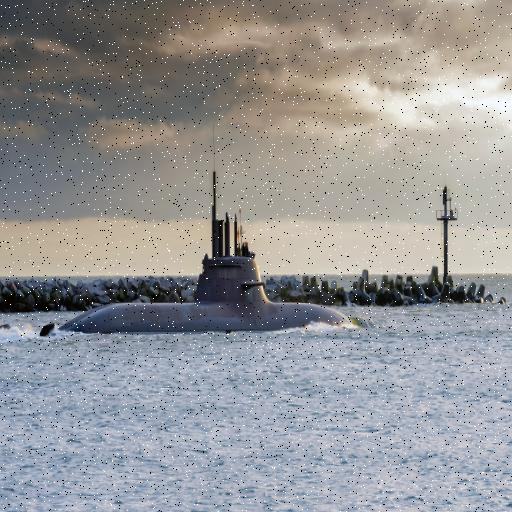submarine: (38, 156, 358, 328)
